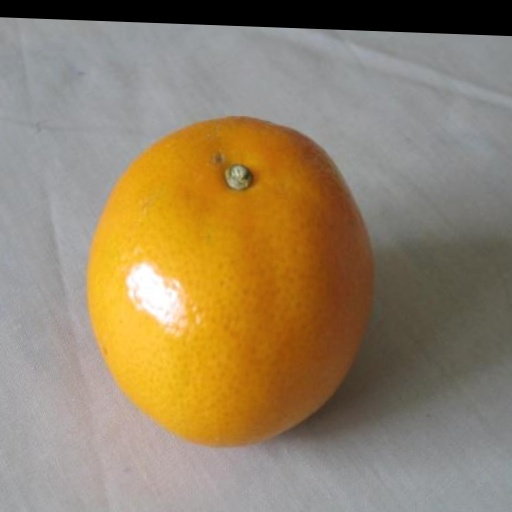fruit: (88, 118, 372, 445)
